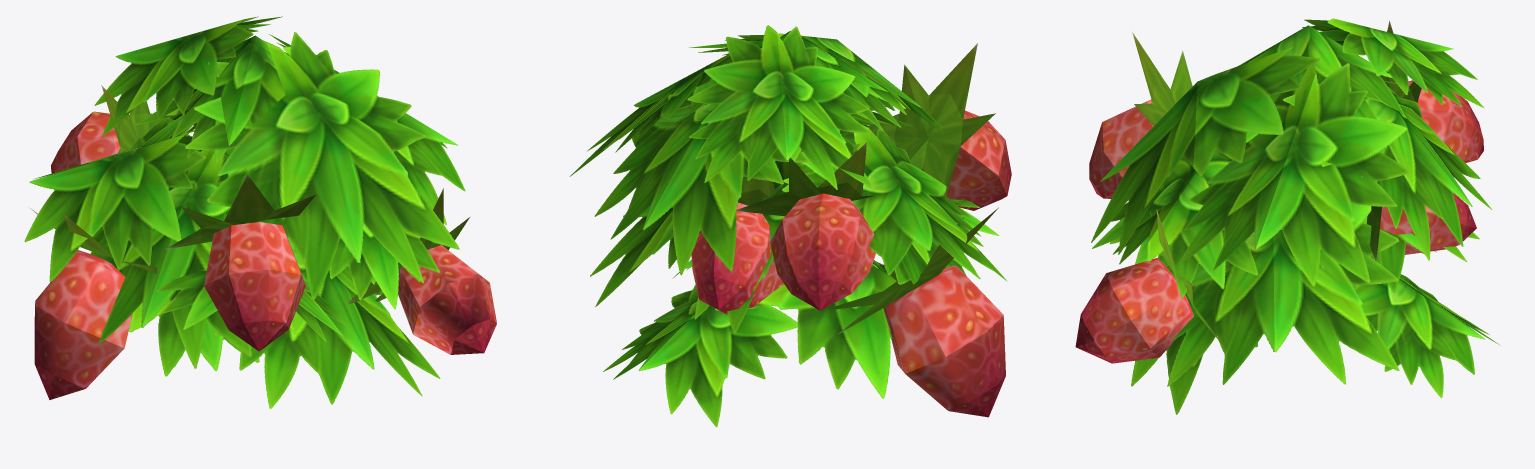
File: caomeizy.FBX
3 views of the same model, side by side, from view 1: azimuth 30°, elevation 25°; view 2: azimuth 150°, elevation 25°; view 3: azimuth 270°, elevation 25° (orthographic). The views are drawn at different scales.
Visible parts, largest first — view 1: caomeizy_001, caomeizy_001_ncl1_1; view 2: caomeizy_001, caomeizy_001_ncl1_1; view 3: caomeizy_001, caomeizy_001_ncl1_1.
Boxes of the visible parts, box(x1,y1,x2,y2) form: caomeizy_001: box(24, 16, 465, 408); caomeizy_001_ncl1_1: box(30, 85, 496, 399); caomeizy_001: box(569, 25, 1007, 427); caomeizy_001_ncl1_1: box(669, 43, 1011, 417); caomeizy_001: box(1091, 18, 1500, 414); caomeizy_001_ncl1_1: box(1075, 21, 1483, 363).
Bounding box in the file's own units: 62.69 × 50.43 × 54.7.
